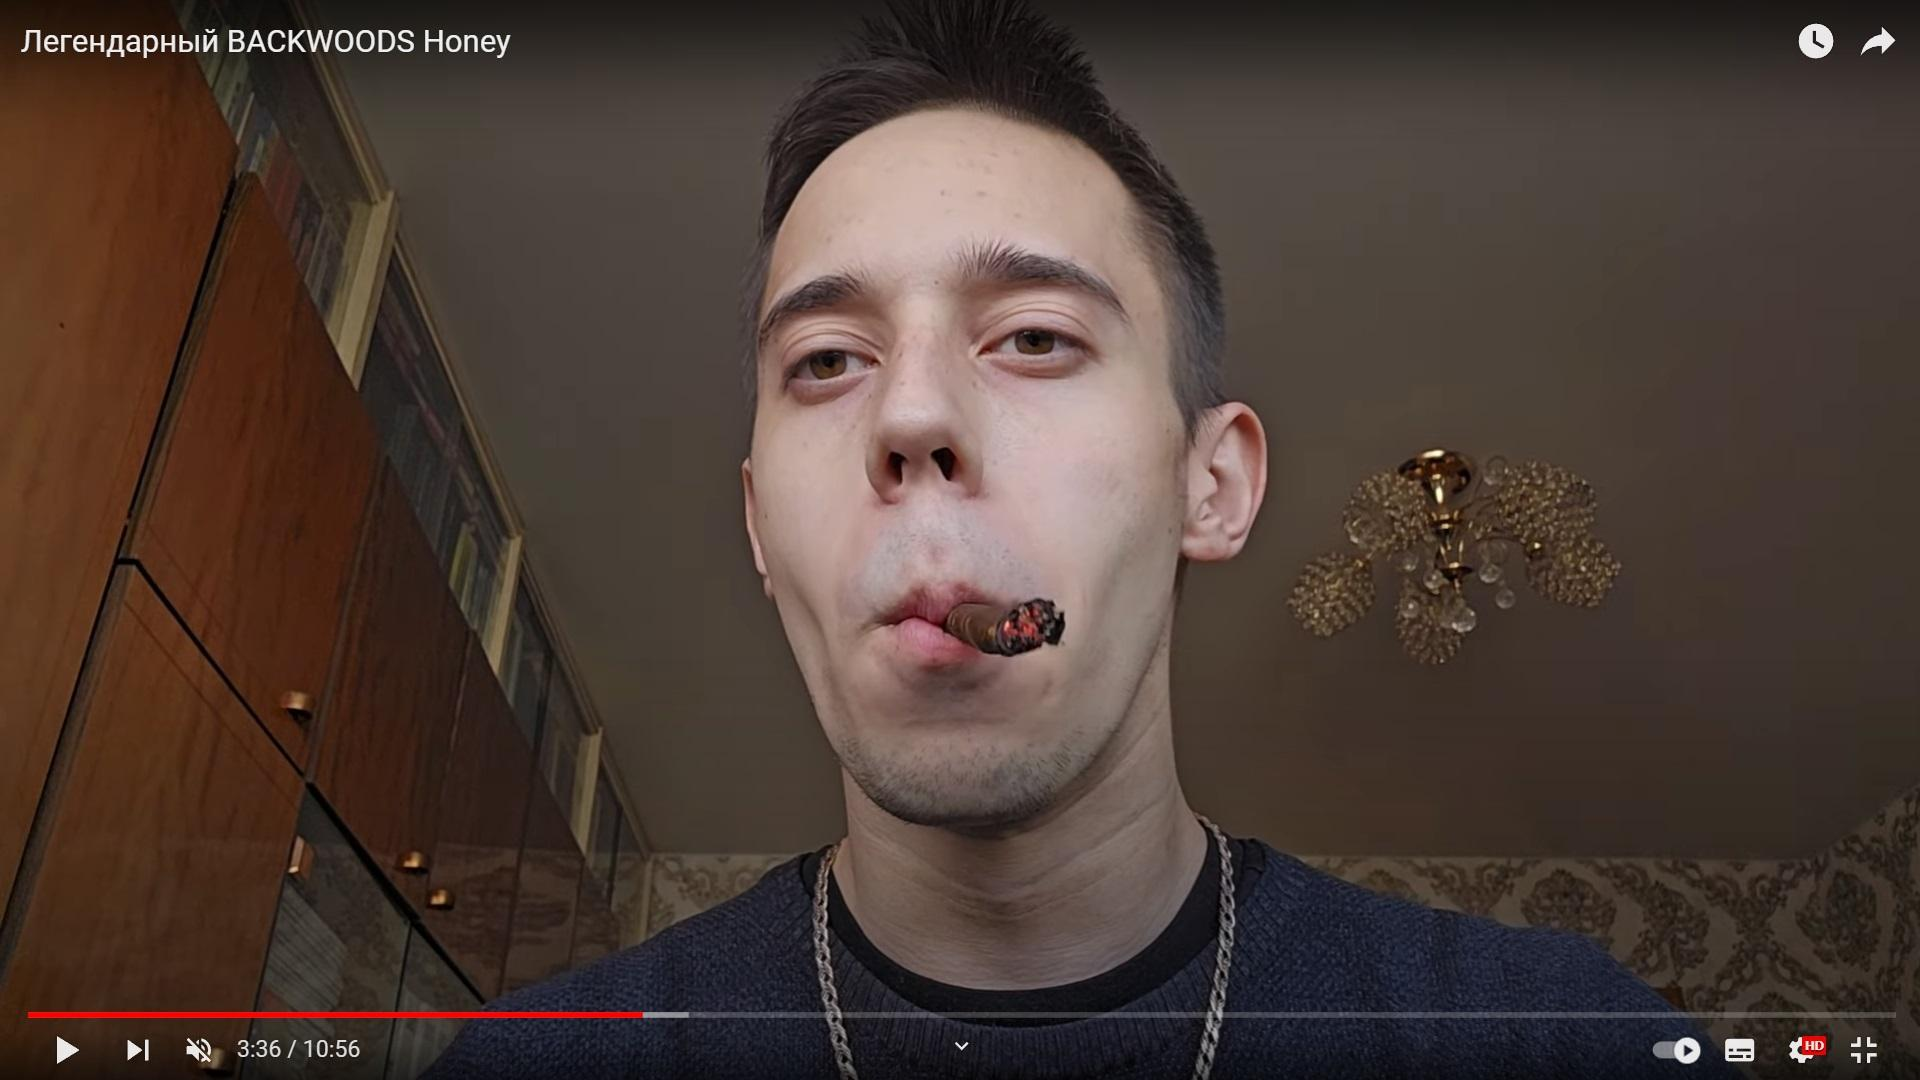cigarette: (943, 597, 1067, 658)
